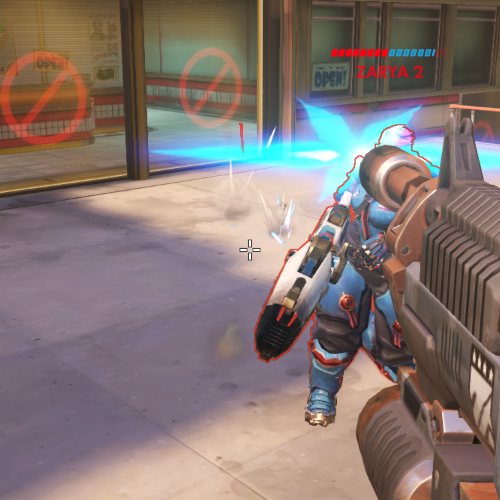hpbar: (330, 48, 447, 58)
